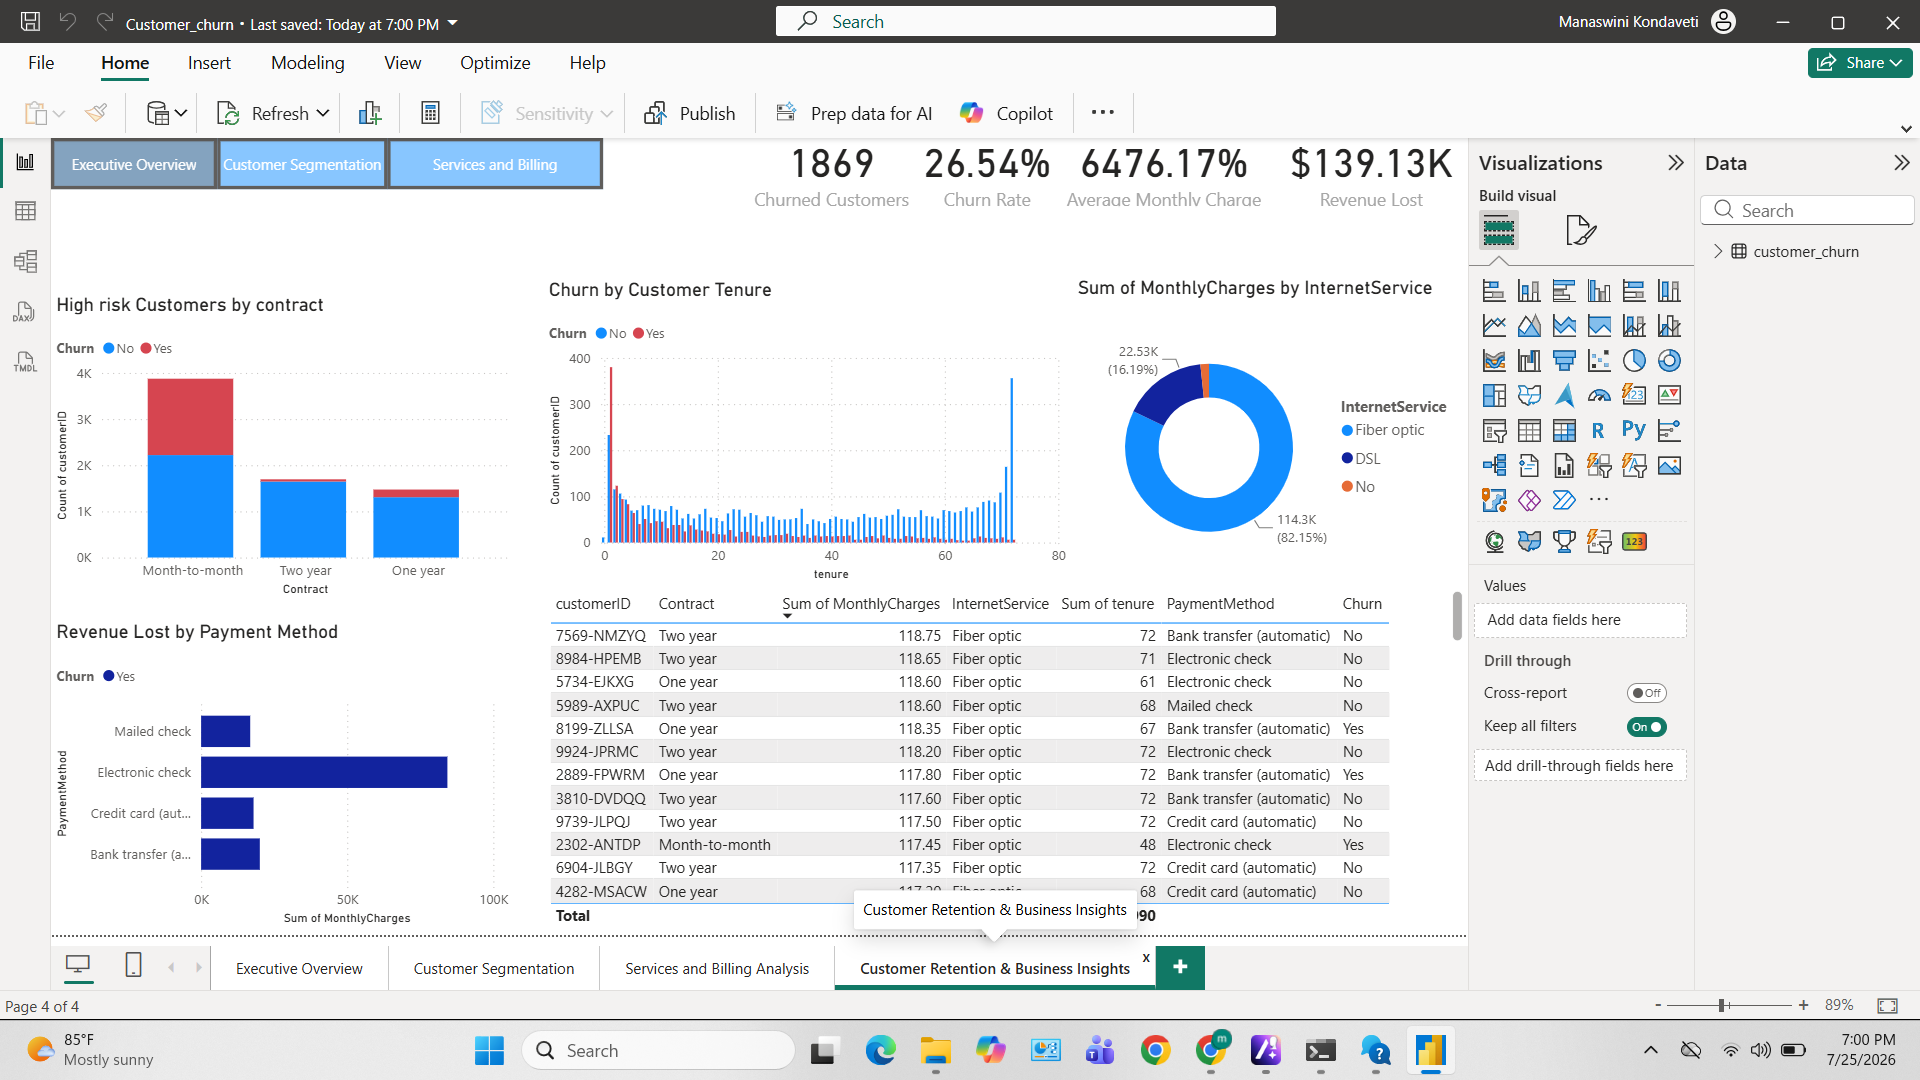

The page's visual inventory and layout, read from the dashboard file:
{"tool":"powerbi","page":{"name":"Customer Retention & Business Insights","canvas":[1280,720],"ordinal":3},"visuals":[{"type":"PBI_CV_7B952816_A48F_49B4_9E13_15E3BB2C0337","fields":{"Values":["customer_churn.Churned Customers"]},"box":[627.5,0,155,67.5],"z":0},{"type":"PBI_CV_7B952816_A48F_49B4_9E13_15E3BB2C0337","fields":{"Values":["customer_churn.Churn Rate"]},"box":[782.5,0,127.5,67.5],"z":1000},{"type":"PBI_CV_7B952816_A48F_49B4_9E13_15E3BB2C0337","fields":{"Values":["customer_churn.Average Monthly Charge"]},"box":[910,0,191.2,67.5],"z":2000},{"type":"PBI_CV_7B952816_A48F_49B4_9E13_15E3BB2C0337","fields":{"Values":["customer_churn.Revenue Lost"]},"box":[1105,0,175,67.5],"z":3000},{"type":"columnChart","title":"High risk Customers by contract","fields":{"Category":["customer_churn.Contract"],"Series":["customer_churn.Churn"],"Y":["CountNonNull(customer_churn.customerID)"]},"box":[0,140,418.8,278.8],"z":4000},{"type":"clusteredBarChart","title":"Revenue Lost by Payment Method","fields":{"Category":["customer_churn.PaymentMethod"],"Series":["customer_churn.Churn"],"Y":["Sum(customer_churn.MonthlyCharges)"]},"box":[0,436.2,418.8,280],"z":5000},{"type":"clusteredColumnChart","title":"Churn by Customer Tenure","fields":{"Category":["customer_churn.tenure"],"Series":["customer_churn.Churn"],"Y":["CountNonNull(customer_churn.customerID)"]},"box":[445,126.2,477.5,278.8],"z":6000},{"type":"donutChart","fields":{"Category":["customer_churn.InternetService"],"Y":["Sum(customer_churn.MonthlyCharges)"]},"box":[922.5,125,357.5,278.8],"z":7000},{"type":"tableEx","fields":{"Values":["customer_churn.customerID","customer_churn.Contract","Sum(customer_churn.MonthlyCharges)","customer_churn.InternetService","Sum(customer_churn.tenure)","customer_churn.PaymentMethod","customer_churn.Churn"]},"box":[445,403.8,835,312.5],"z":8000},{"type":"actionButton","title":"Executive Overview","box":[0,0,150,46.2],"z":9000},{"type":"actionButton","title":"Customer Segmentation","box":[150,0,153.8,46.2],"z":10000},{"type":"actionButton","title":"Service and Bill","box":[303.8,0,195,46.2],"z":11000}]}

Visuals, with their boxes on the page's 1280x720 design canvas (x1, y1, x2, y2). These are canvas units, not pixel positions in the 1920x1080 screenshot, which may show the page scaled, cropped or inside an application window:
PBI_CV_7B952816_A48F_49B4_9E13_15E3BB2C0337 - customer_churn.Churned Customers: BBox(628, 0, 782, 68)
PBI_CV_7B952816_A48F_49B4_9E13_15E3BB2C0337 - customer_churn.Churn Rate: BBox(782, 0, 910, 68)
PBI_CV_7B952816_A48F_49B4_9E13_15E3BB2C0337 - customer_churn.Average Monthly Charge: BBox(910, 0, 1101, 68)
PBI_CV_7B952816_A48F_49B4_9E13_15E3BB2C0337 - customer_churn.Revenue Lost: BBox(1105, 0, 1280, 68)
"High risk Customers by contract" columnChart: BBox(0, 140, 419, 419)
"Revenue Lost by Payment Method" clusteredBarChart: BBox(0, 436, 419, 716)
"Churn by Customer Tenure" clusteredColumnChart: BBox(445, 126, 922, 405)
donutChart - customer_churn.InternetService x Sum(customer_churn.MonthlyCharges): BBox(922, 125, 1280, 404)
tableEx - customer_churn.customerID x customer_churn.Contract: BBox(445, 404, 1280, 716)
"Executive Overview" actionButton: BBox(0, 0, 150, 46)
"Customer Segmentation" actionButton: BBox(150, 0, 304, 46)
"Service and Bill" actionButton: BBox(304, 0, 499, 46)
